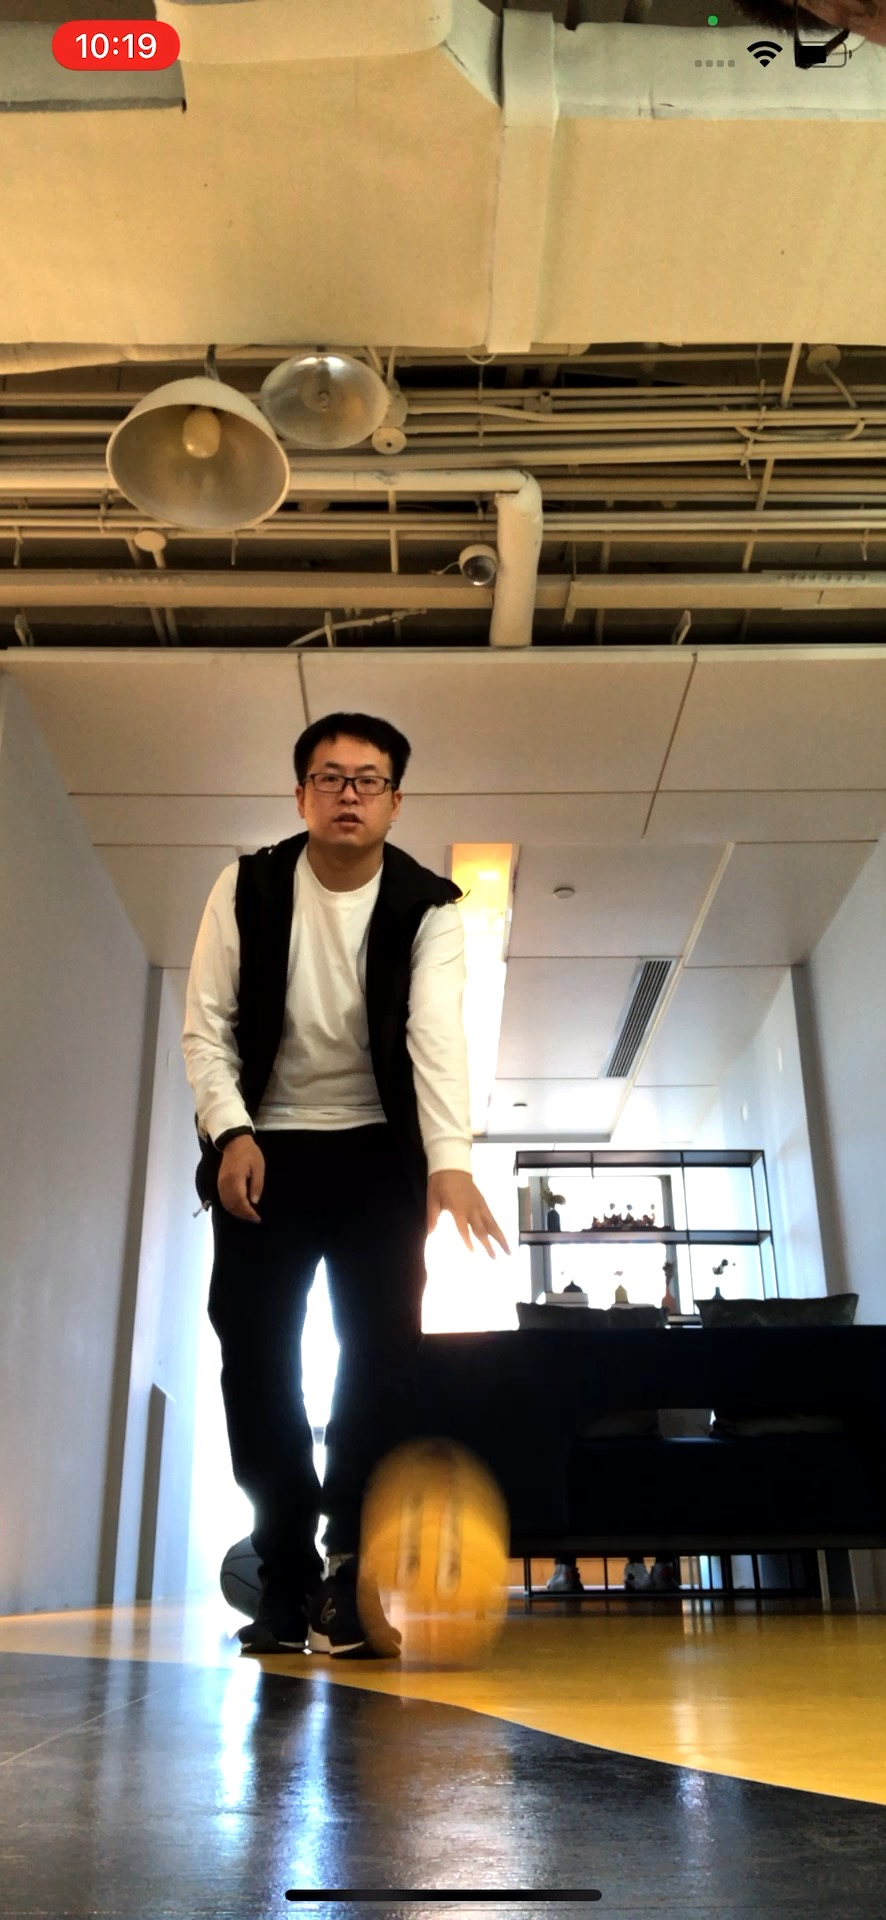ball: (355, 1478, 514, 1665)
